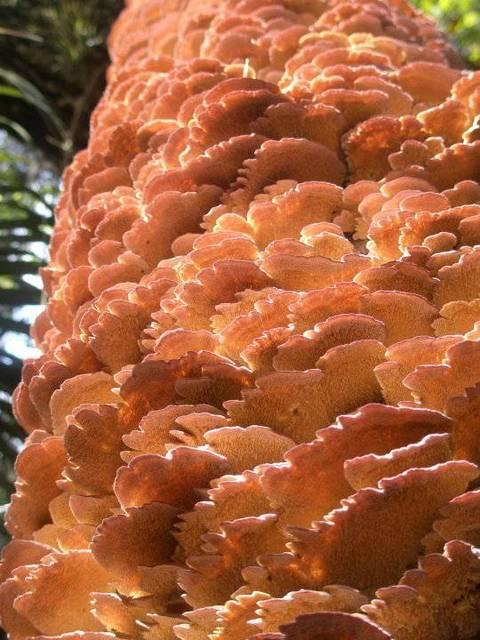poisonous_mushroom: (0, 0, 479, 639)
